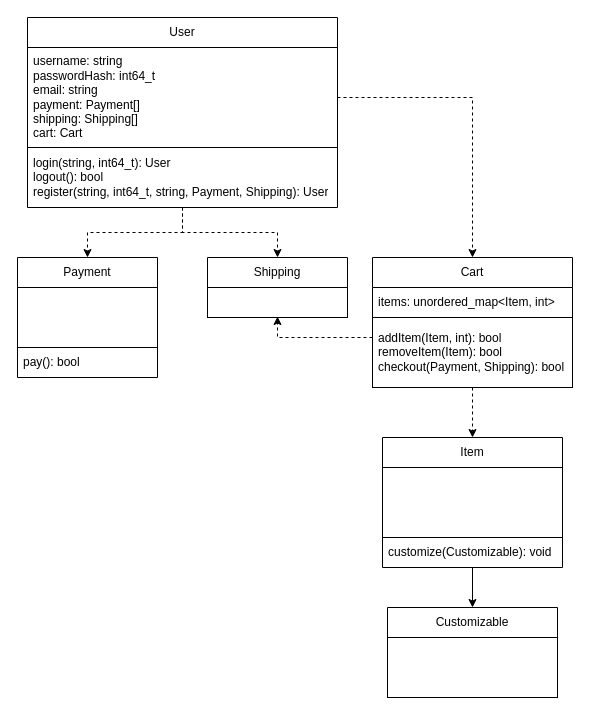
This 590x715 diagram has some shape labels left out. Here are the shapes that lost their labels. From the top down, the centre of each, then its label:
At point 87,317: "creditCard: string name: string cvv: int".
At point 277,302: "address: string".
At point 472,502: "name: string description: string price: double device: string".
At point 472,667: "design: enum texture: enum caseType: enum".
